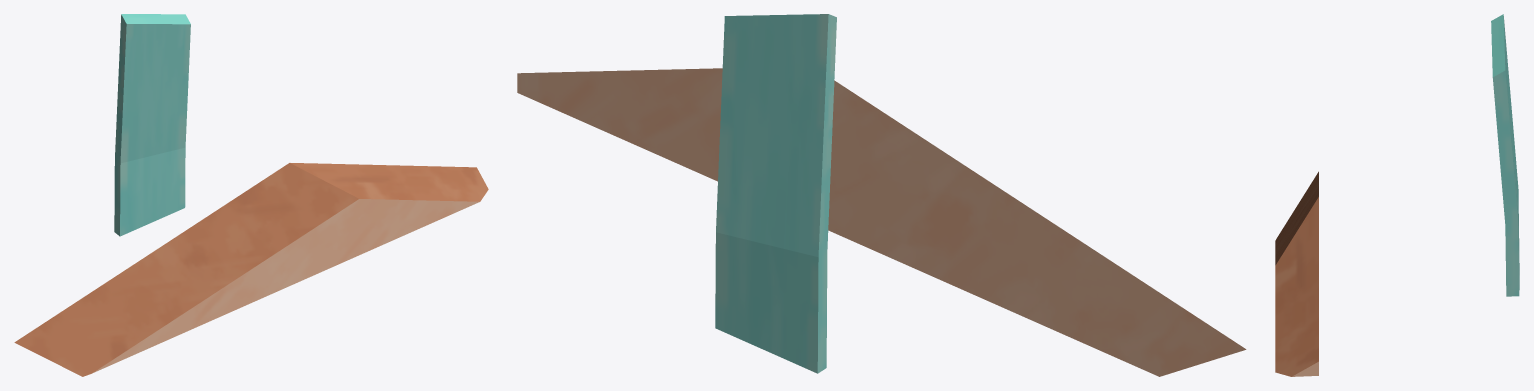
The model's file is spout_s05.fbx.
3 views of the same model, side by side, from view 1: azimuth 30°, elevation 25°; view 2: azimuth 150°, elevation 25°; view 3: azimuth 270°, elevation 25° (orthographic). The views are drawn at different scales.
Parts seen in each view (by area): view 1: spout_s05; view 2: spout_s05; view 3: spout_s05.
Boxes of the visible parts, x1,y1,x2,y2 form: spout_s05: (14, 14, 488, 376); spout_s05: (517, 14, 1246, 376); spout_s05: (1275, 14, 1519, 376).
Size of the model in its own units: 2.84 by 1.52 by 1.12.
